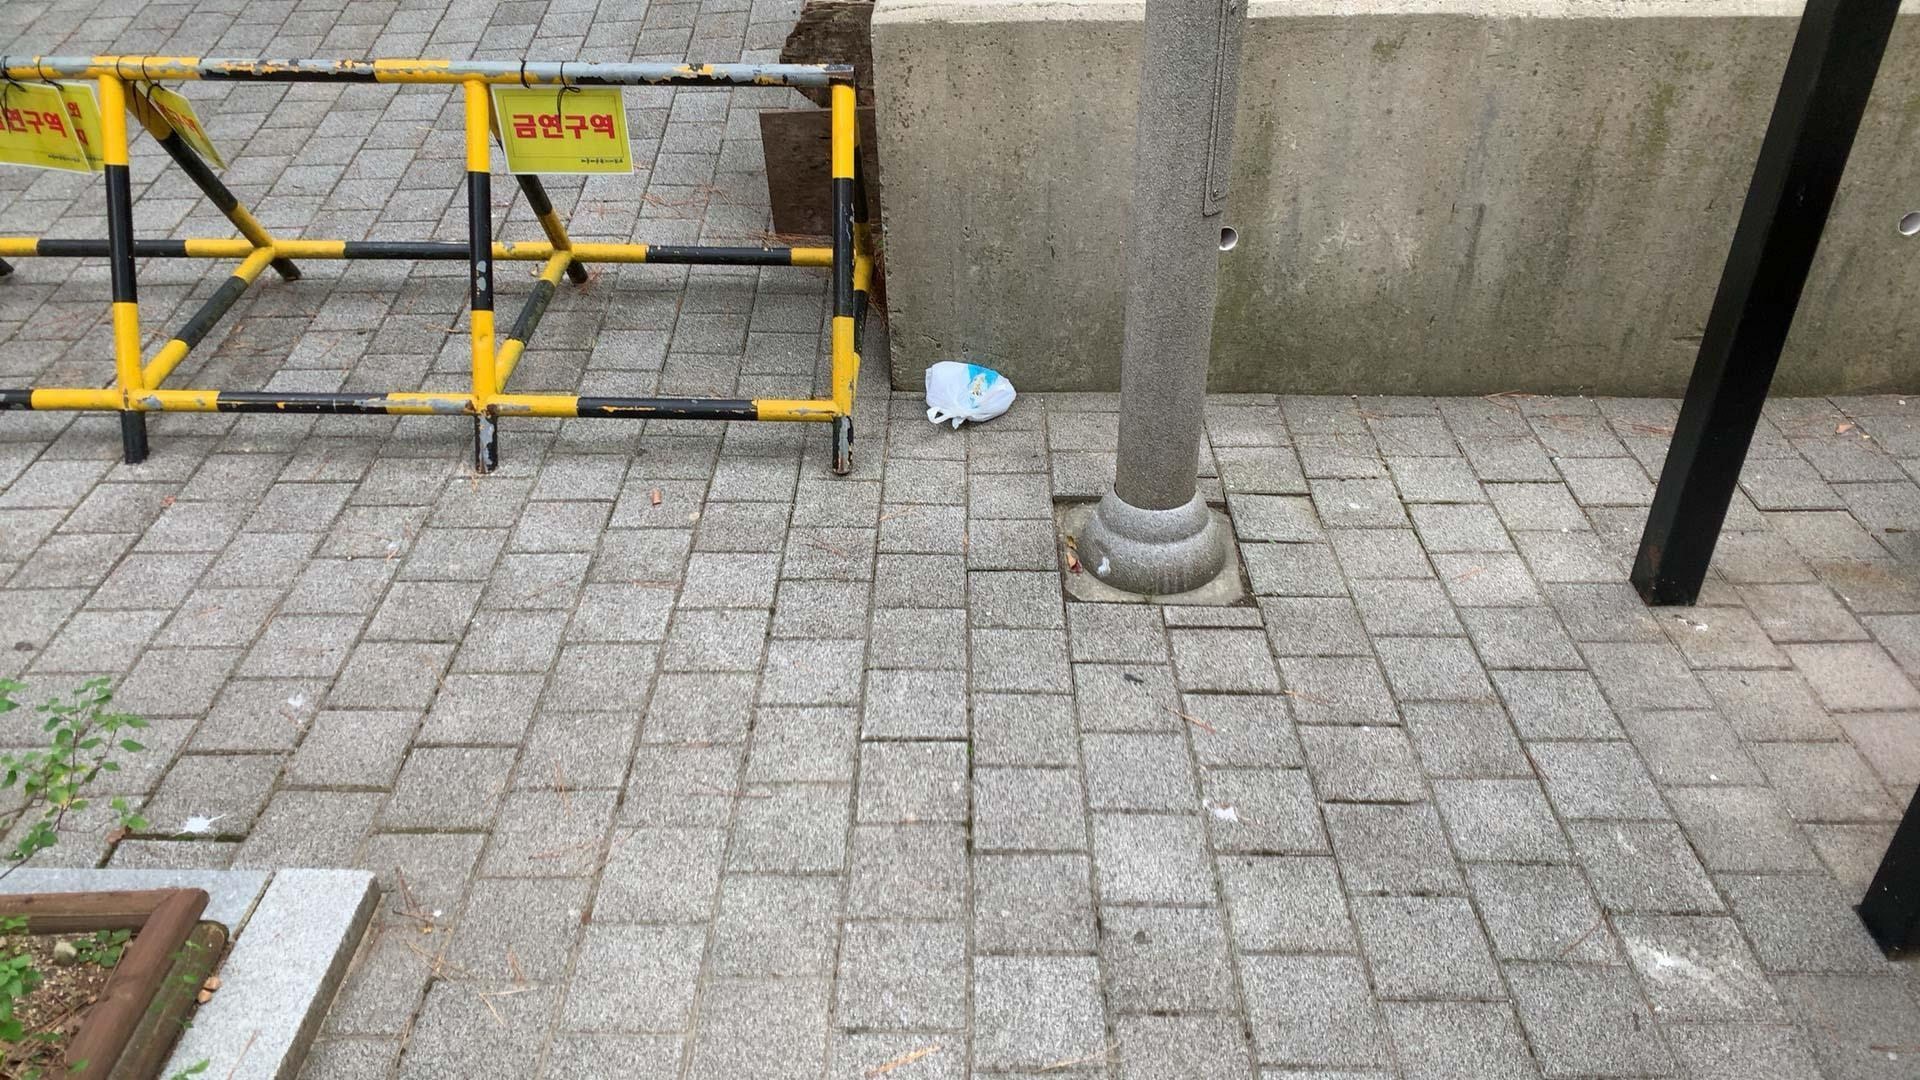white_bag: (914, 353, 1021, 435)
